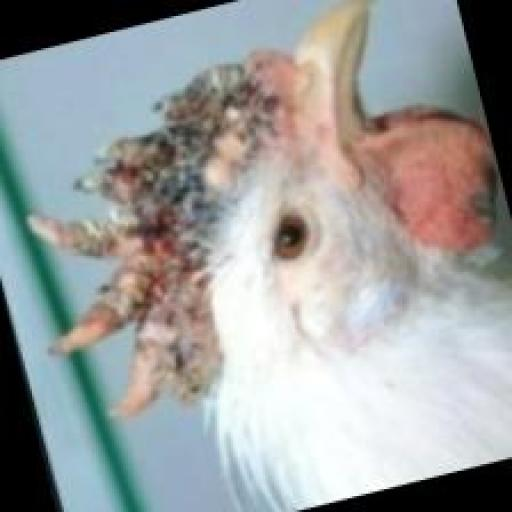disease: (46, 41, 304, 393), (431, 94, 512, 242)
